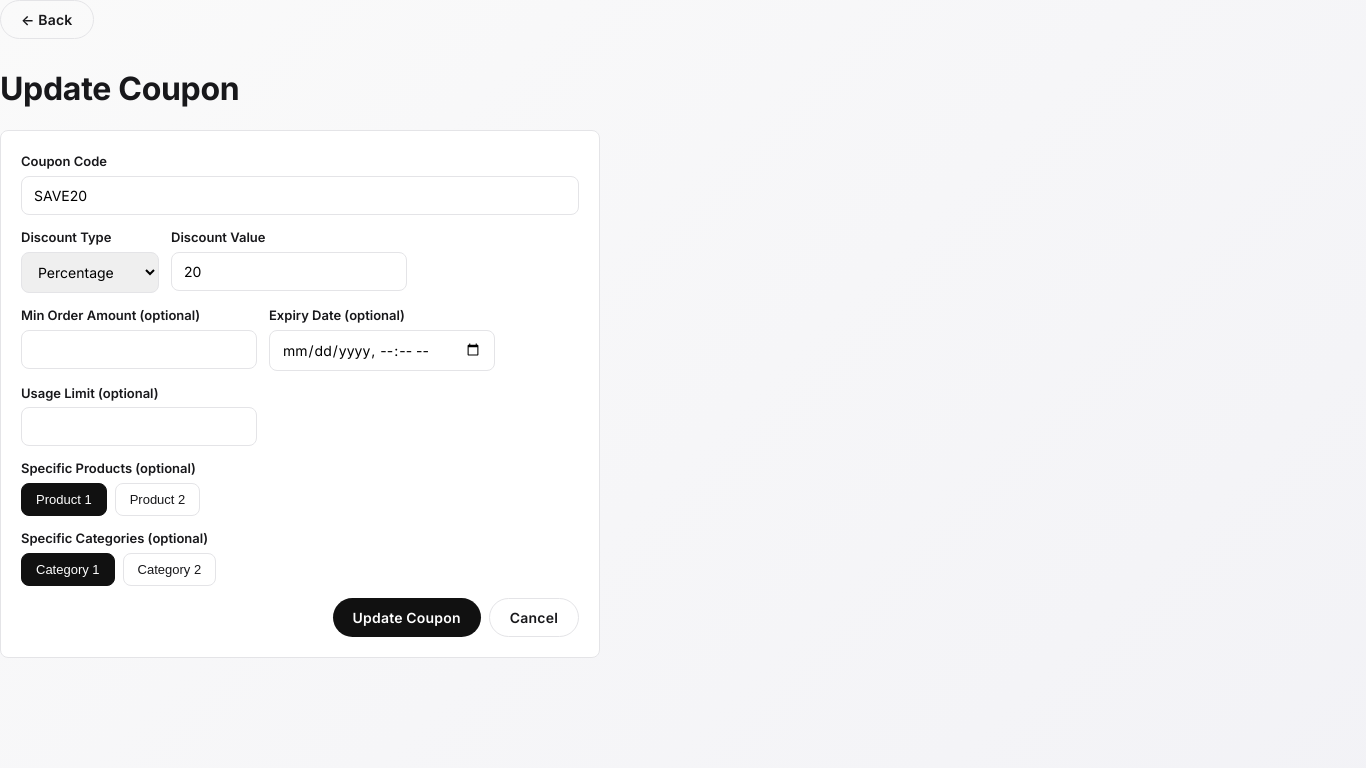
Scenario: AdminCouponForm › Edit Mode › should show error when update fails
The width and height of the screenshot is (1366, 768).
Check: the field showing "SAVE20" below "Coupon Code" is shown, box [21,176,579,215]
Click the button "Update Coupon": (407, 618) [332,598,481,637]
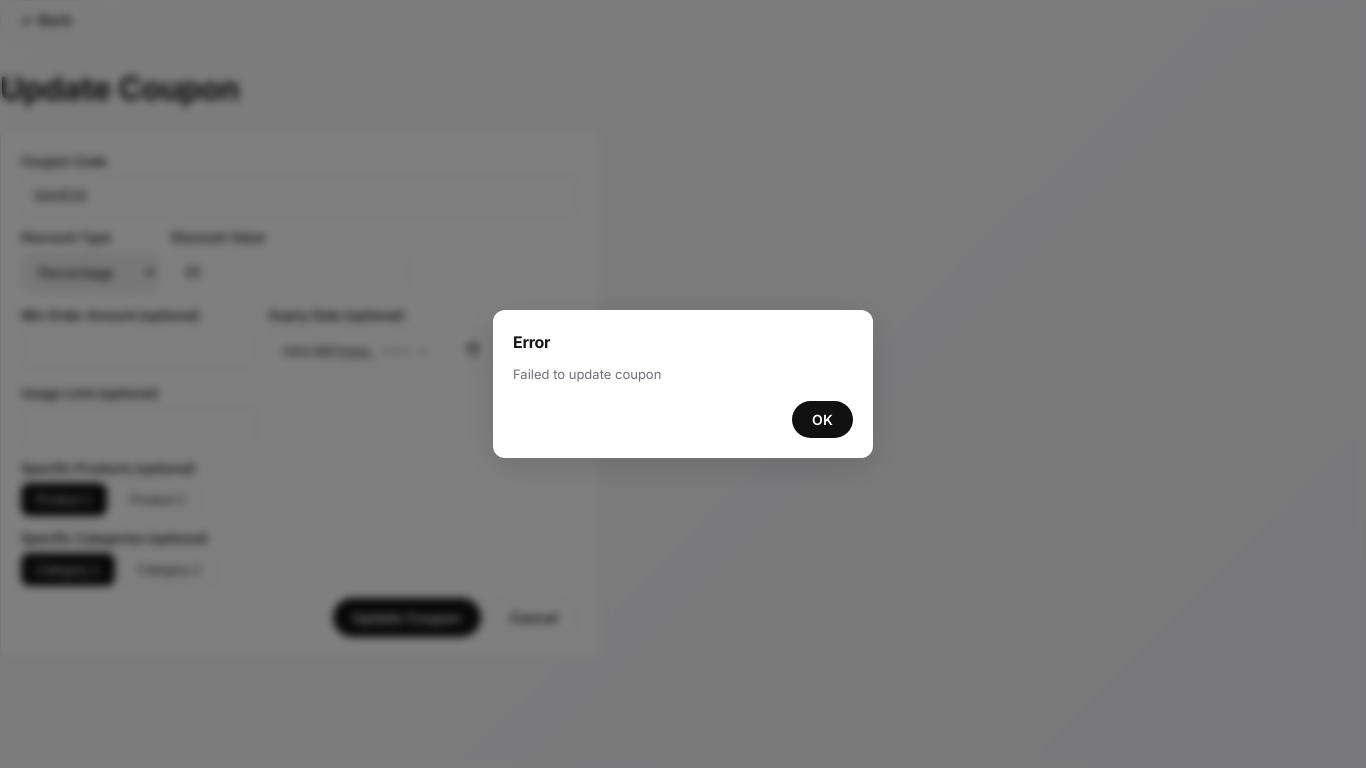
Check: the text "Failed to update coupon" is shown, box [513,366,661,382]
